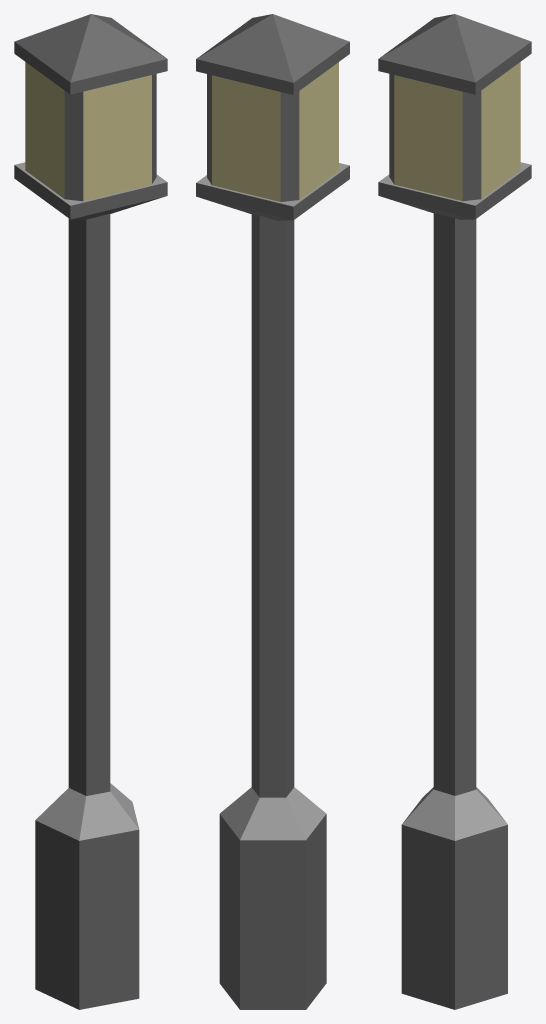
File: pillar_006.fbx
The picture shows the model from 3 angles, left to right: view 1: azimuth 30°, elevation 25°; view 2: azimuth 150°, elevation 25°; view 3: azimuth 330°, elevation 25°; orthographic projection.
Parts seen in each view (by area): view 1: pillar_006; view 2: pillar_006; view 3: pillar_006.
Part boxes in pixels (box(x1,y1,x2,y2)): pillar_006: box(14, 14, 167, 1009); pillar_006: box(196, 14, 349, 1009); pillar_006: box(378, 14, 531, 1009).
Bounding box in the file's own units: 32.29 × 309 × 32.29.
